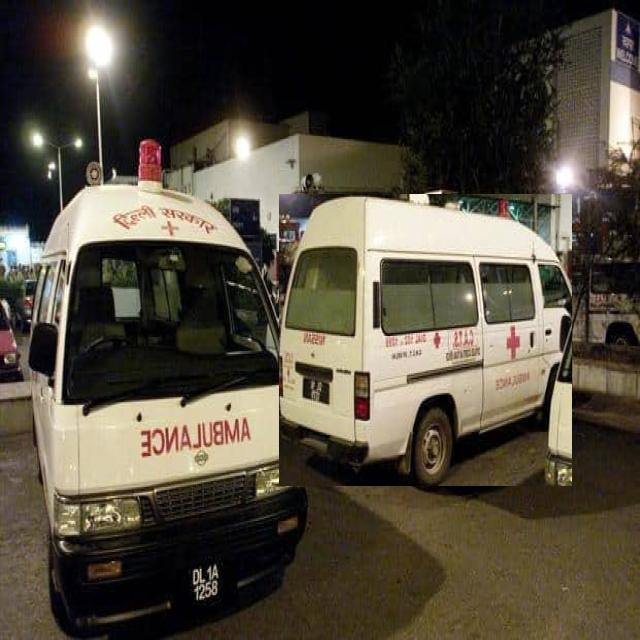emergency: (29, 141, 308, 631), (279, 195, 572, 486)
